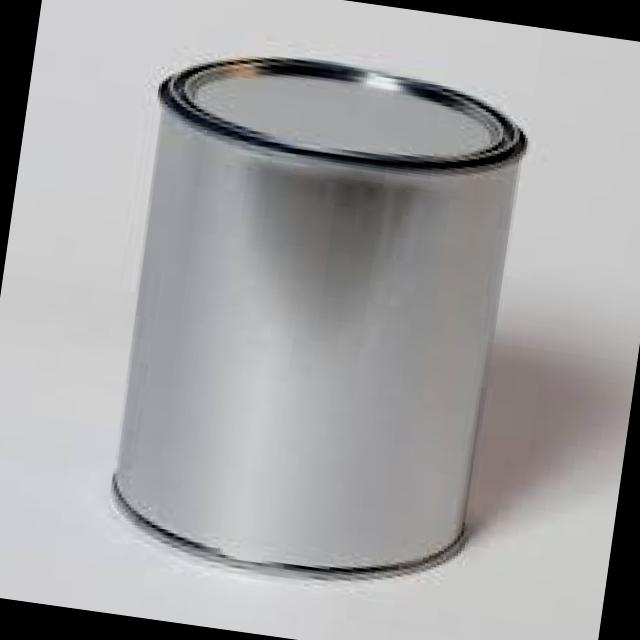metal: (115, 59, 524, 576)
